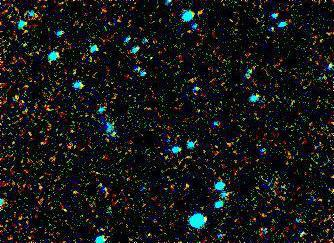star: (96, 114, 126, 144)
